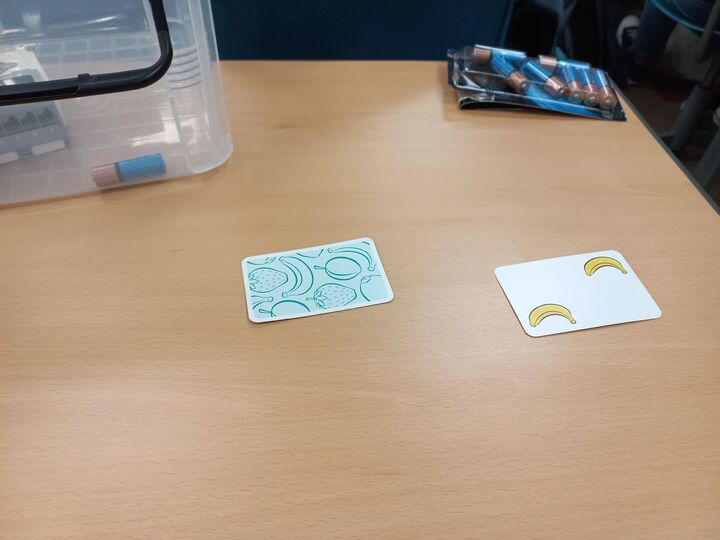banana2: (490, 245, 665, 336)
